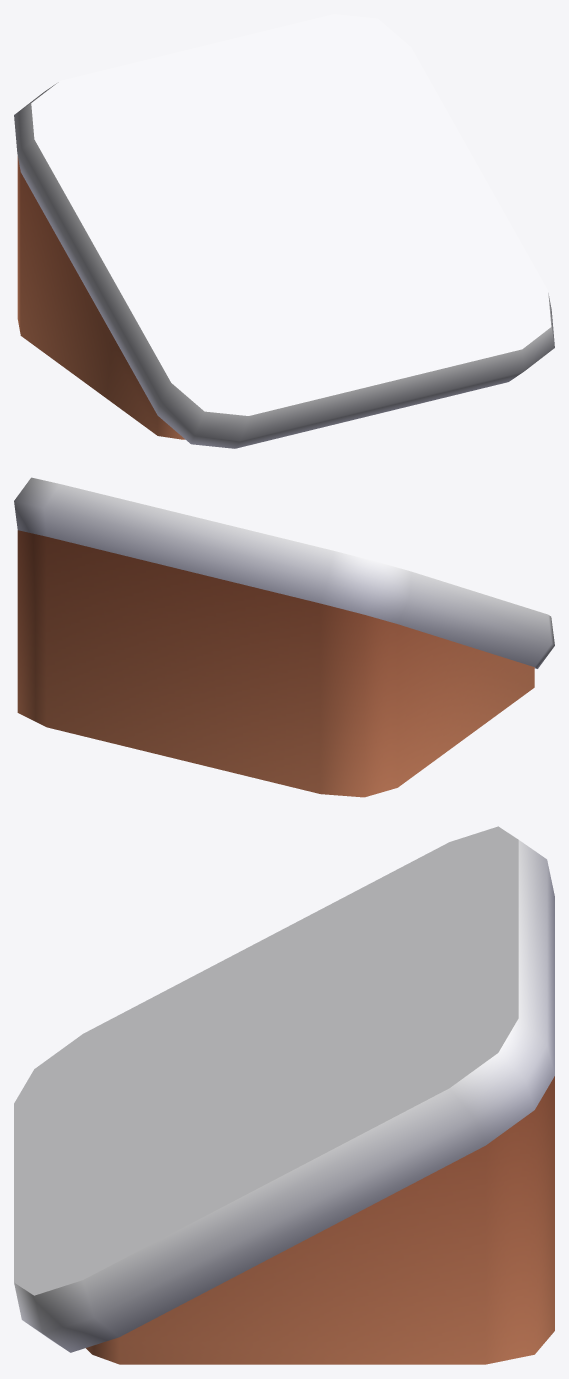
File: block-snow-large-slope-steep.glb
The picture shows the model from 3 angles, top to bottom: view 1: azimuth 30°, elevation 25°; view 2: azimuth 150°, elevation 25°; view 3: azimuth 270°, elevation 25°; orthographic projection. The views are drawn at different scales.
Visible parts, largest first — view 1: block-snow-large-slope-steep; view 2: block-snow-large-slope-steep; view 3: block-snow-large-slope-steep.
Boxes of the visible parts, x1,y1,x2,y2 form: block-snow-large-slope-steep: (14,14,554,448); block-snow-large-slope-steep: (14,477,554,797); block-snow-large-slope-steep: (14,826,554,1364).
Bounding box in the file's own units: 2.08 × 1.22 × 1.86.
Materials: 1 (1 with a texture image).
